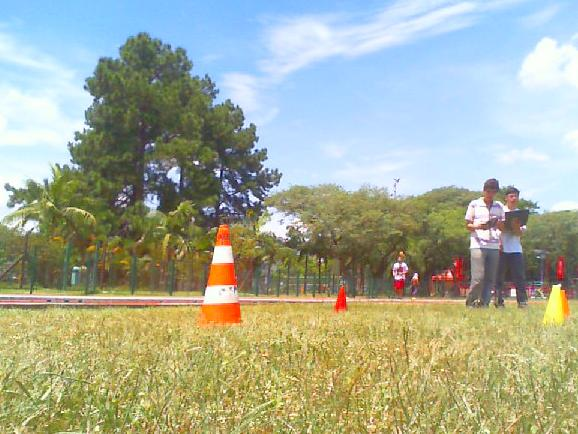0 cone: (196, 225, 244, 325), (542, 285, 568, 325), (333, 287, 350, 312)
